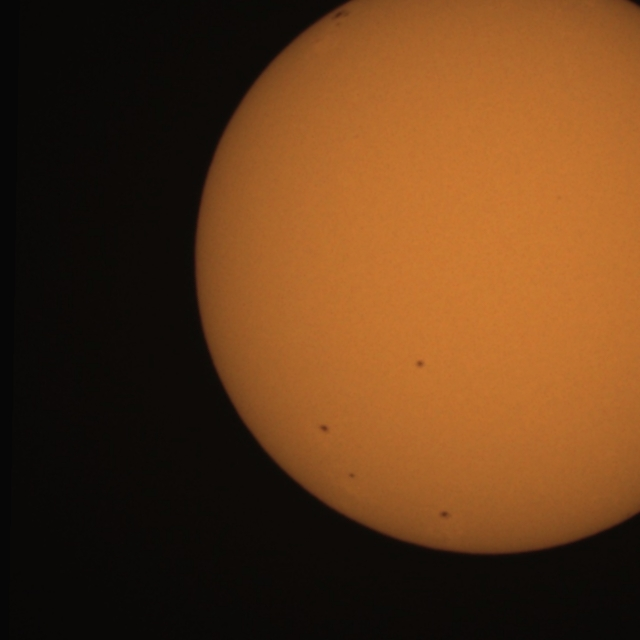sunspot: (312, 6, 351, 32), (331, 8, 352, 28), (438, 509, 452, 521), (414, 358, 426, 370), (318, 423, 330, 435), (348, 471, 356, 480)
